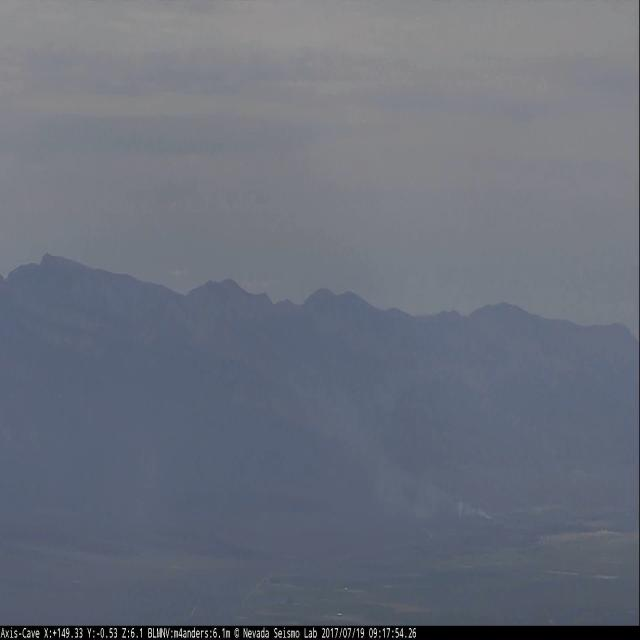smoke: (313, 372, 494, 523)
